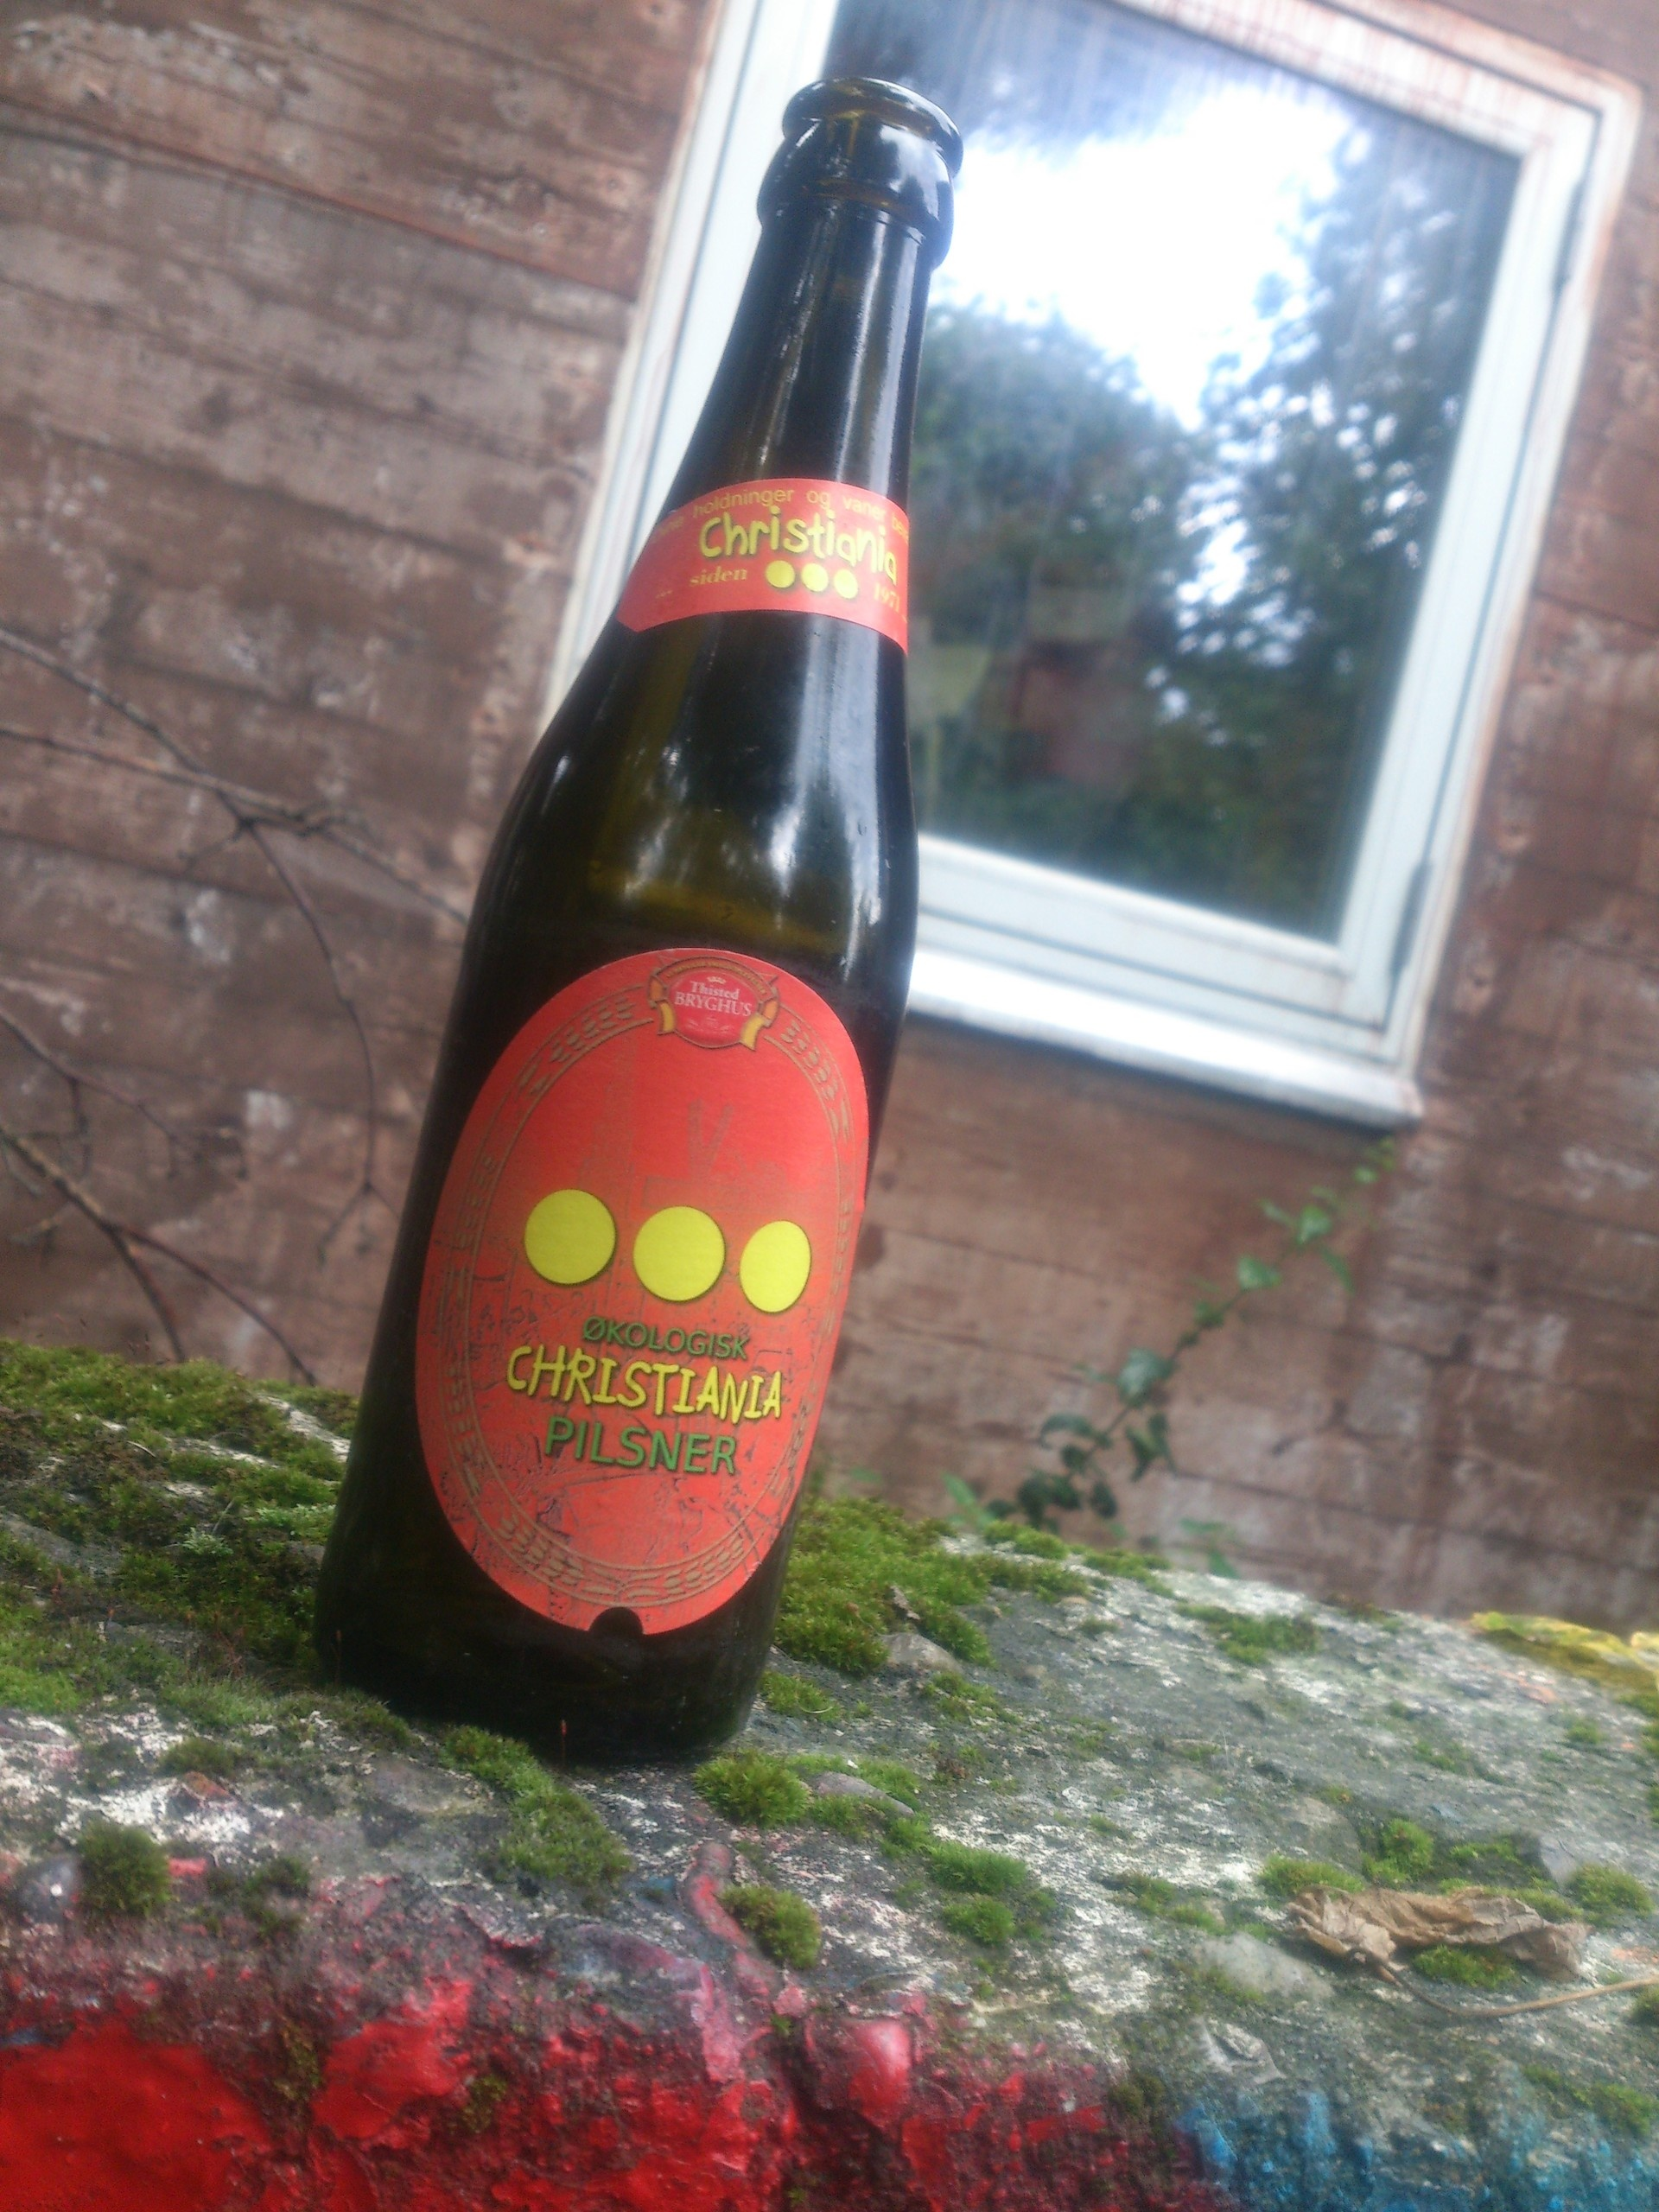beerBottle: (303, 80, 962, 1745)
